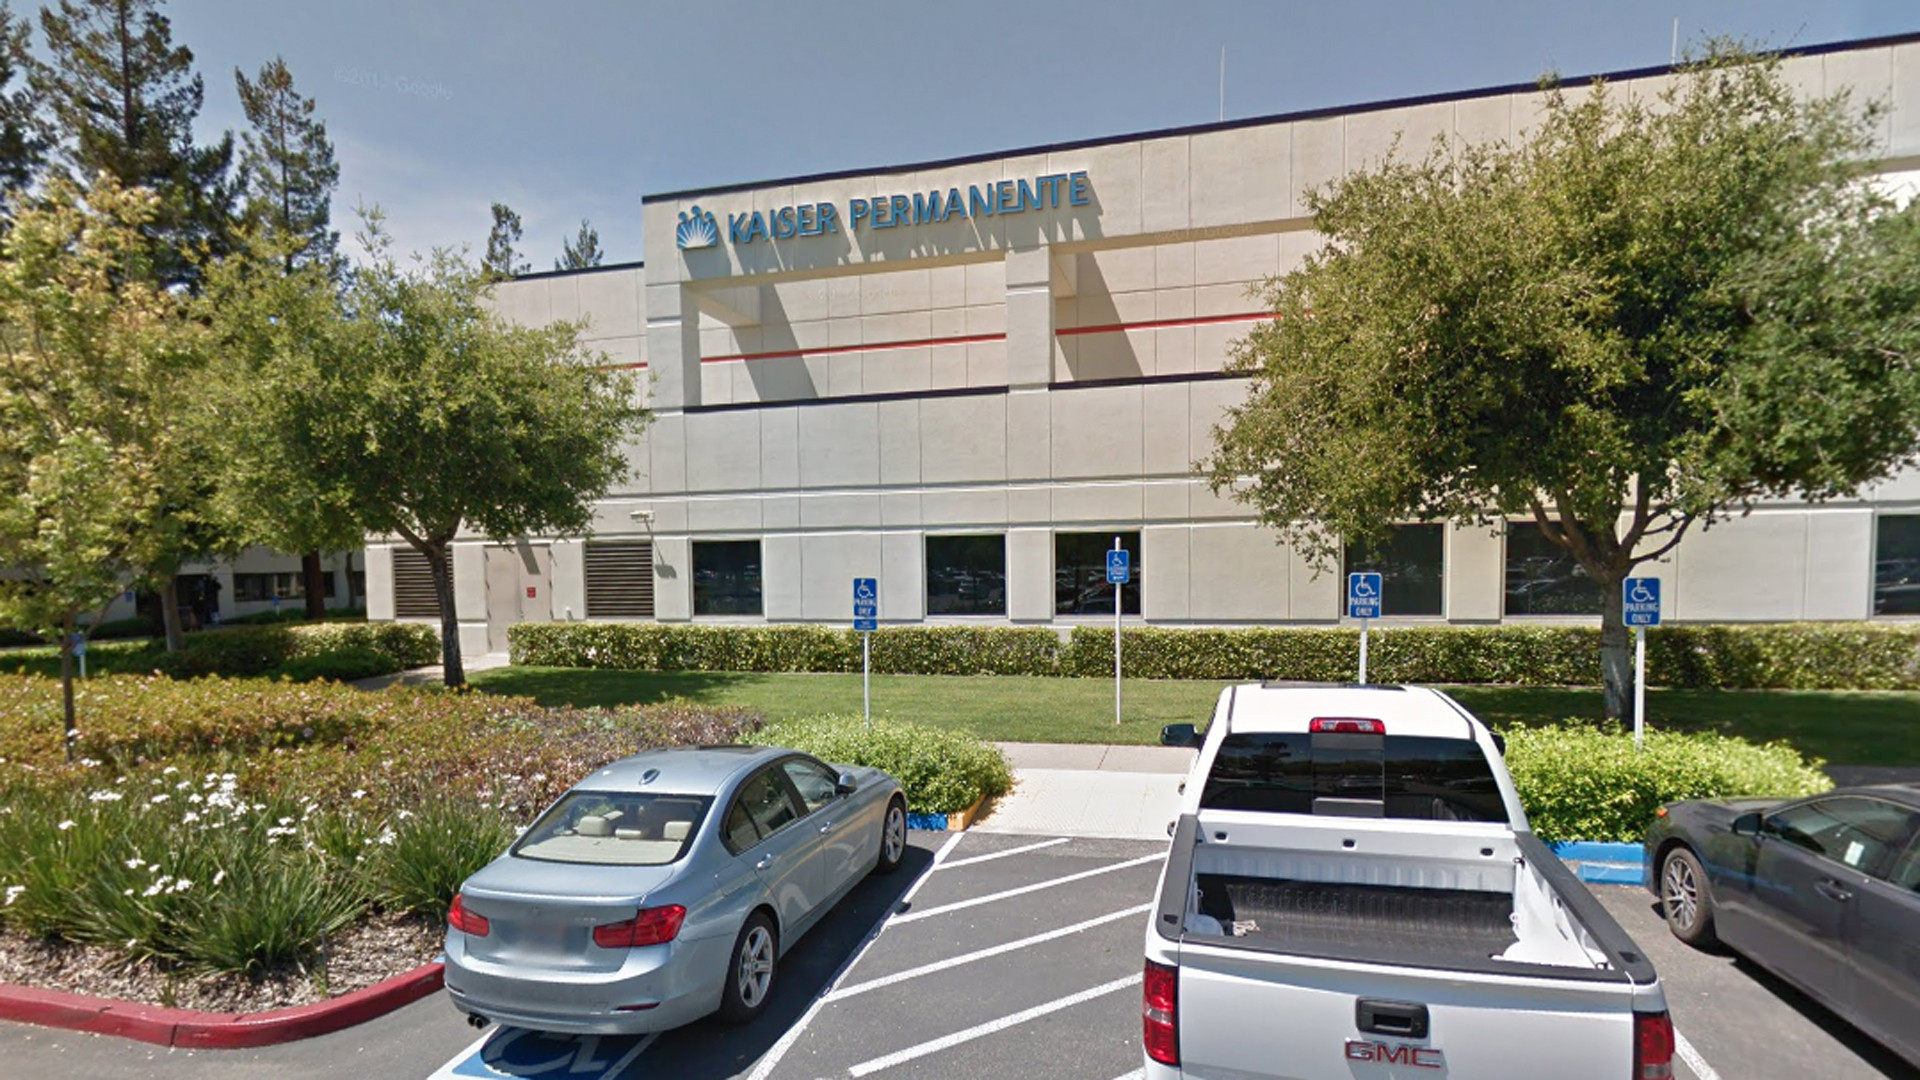tree: (1187, 20, 1920, 731), (206, 253, 661, 688), (1, 171, 216, 754)
